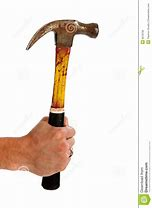hammer: (24, 18, 101, 192)
